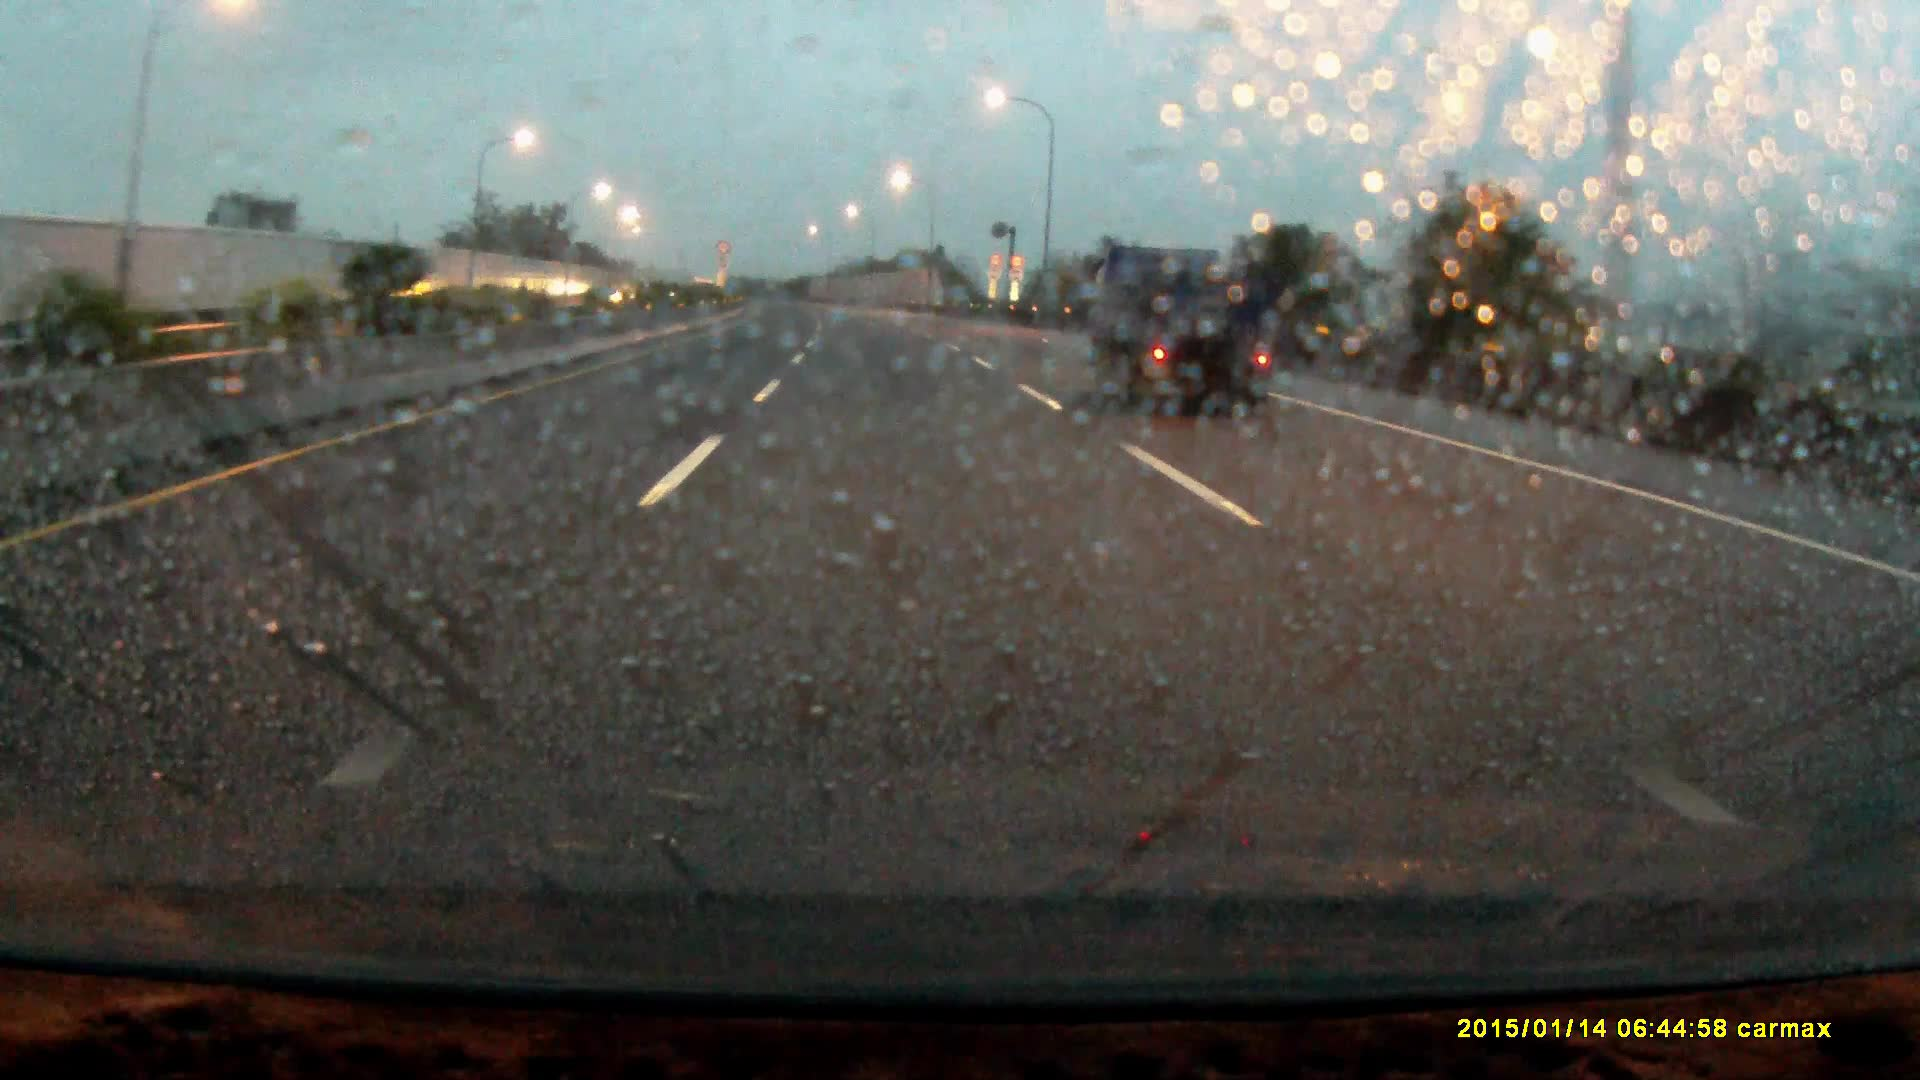vehicle: (1083, 244, 1273, 413)
